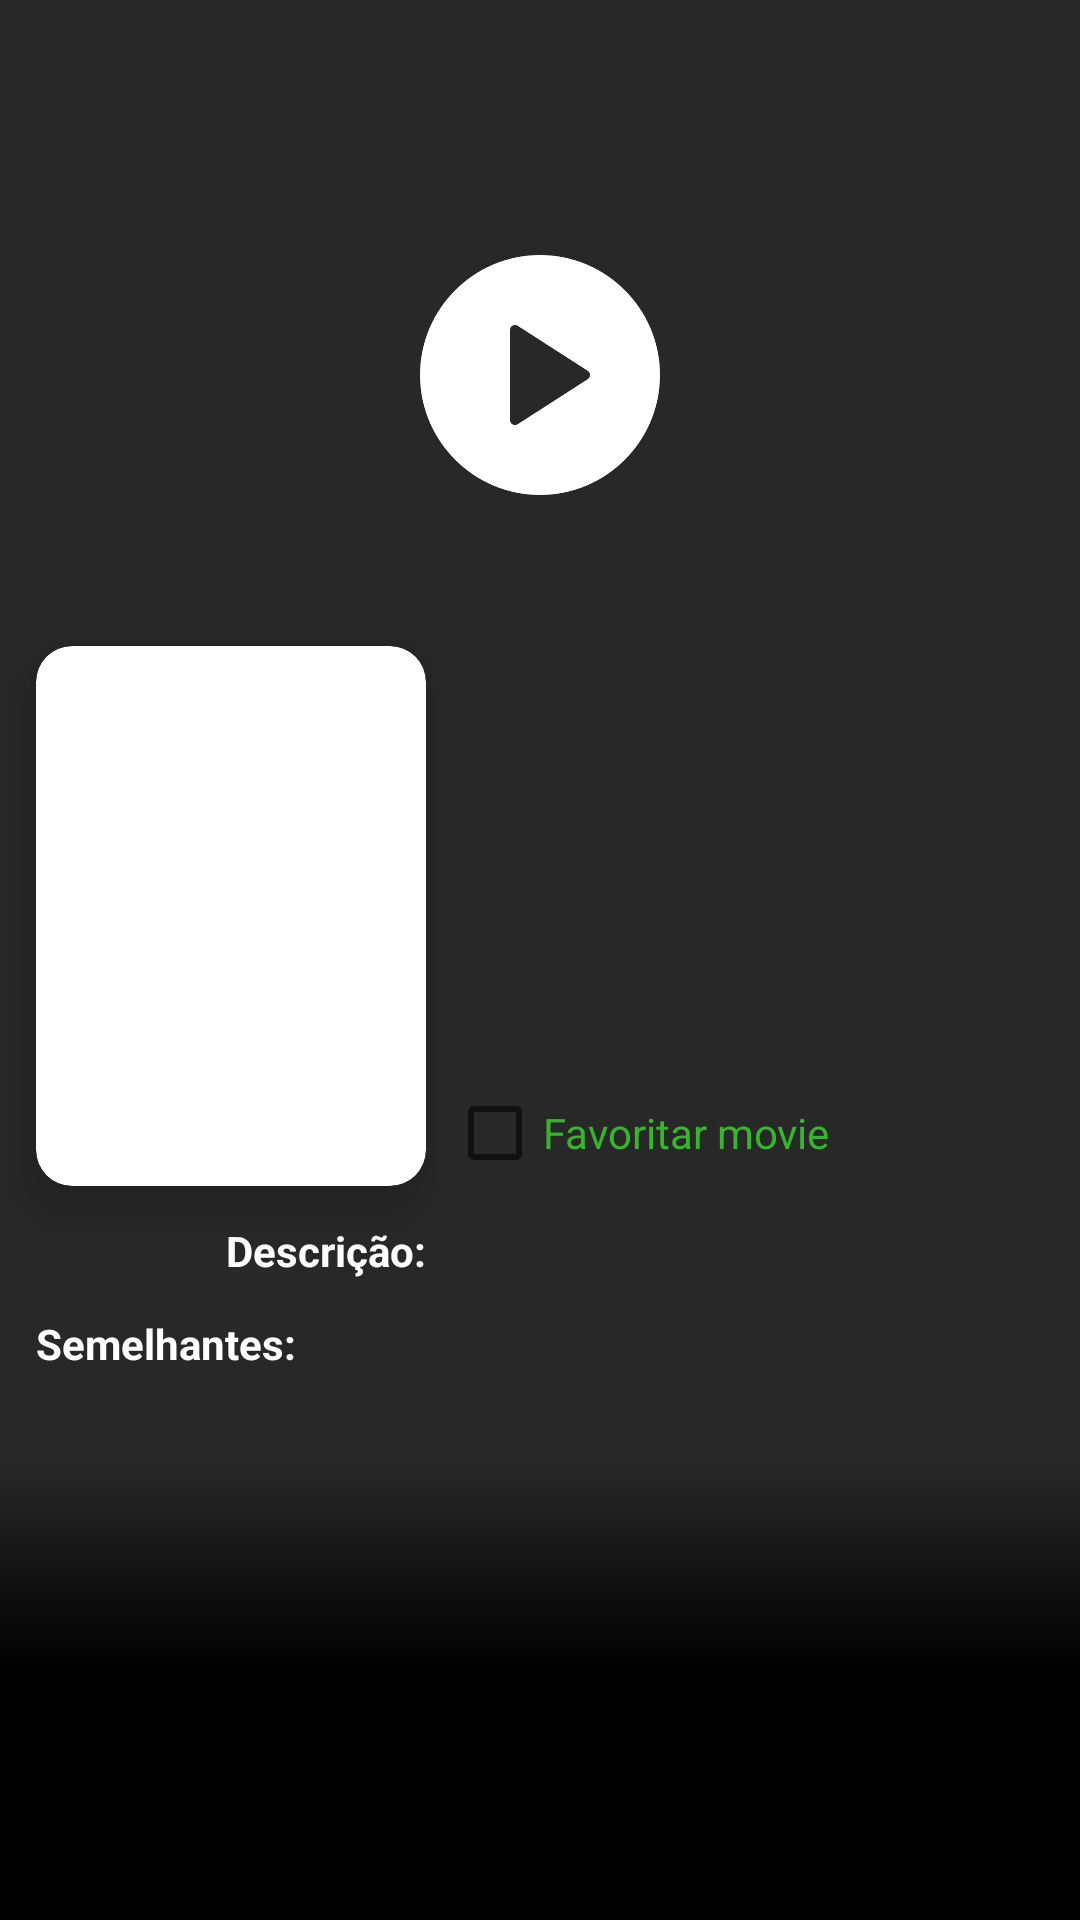

Named icons in this screenshot (1080*1920) and their bounding boxes, Rect(x1, y1, x2, y2):
Botão de play: Rect(420, 255, 660, 495)
